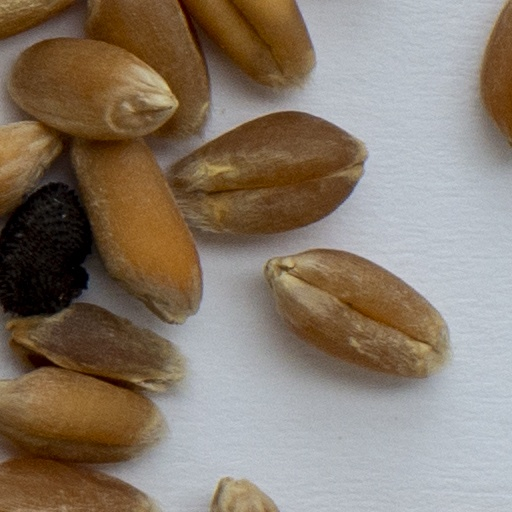Agrostemma-poly: (0, 183, 90, 316)
Wheat-grain-poly: (166, 111, 367, 235), (264, 248, 450, 380), (73, 137, 204, 324), (7, 33, 178, 140), (84, 0, 207, 140), (0, 369, 169, 466), (10, 304, 184, 393), (180, 0, 315, 93), (0, 461, 159, 511), (0, 122, 60, 219), (476, 0, 511, 149), (0, 0, 83, 41), (206, 474, 283, 511)
